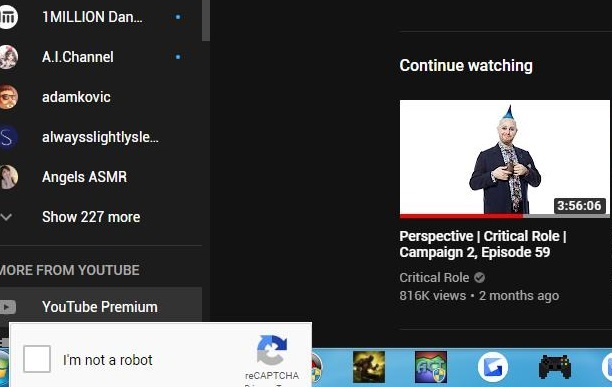captcha: (23, 345, 153, 374)
